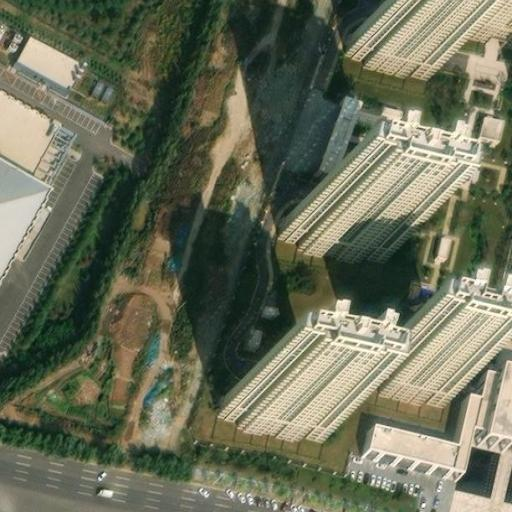building: (365, 359, 512, 472), (218, 375, 330, 435), (284, 197, 392, 252), (348, 21, 436, 70), (361, 323, 445, 371), (14, 28, 82, 82), (325, 89, 364, 169), (451, 0, 512, 38), (474, 112, 503, 143)
